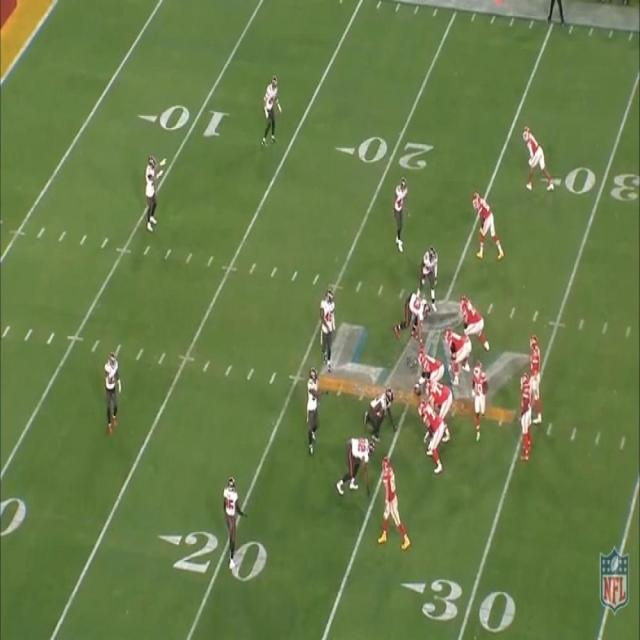center: (415, 349, 441, 391)
db: (222, 473, 245, 562), (103, 352, 120, 427), (145, 156, 161, 226), (264, 77, 280, 144)
lb: (322, 289, 336, 369), (307, 368, 319, 448), (392, 181, 405, 248)
qb: (529, 336, 544, 422)
